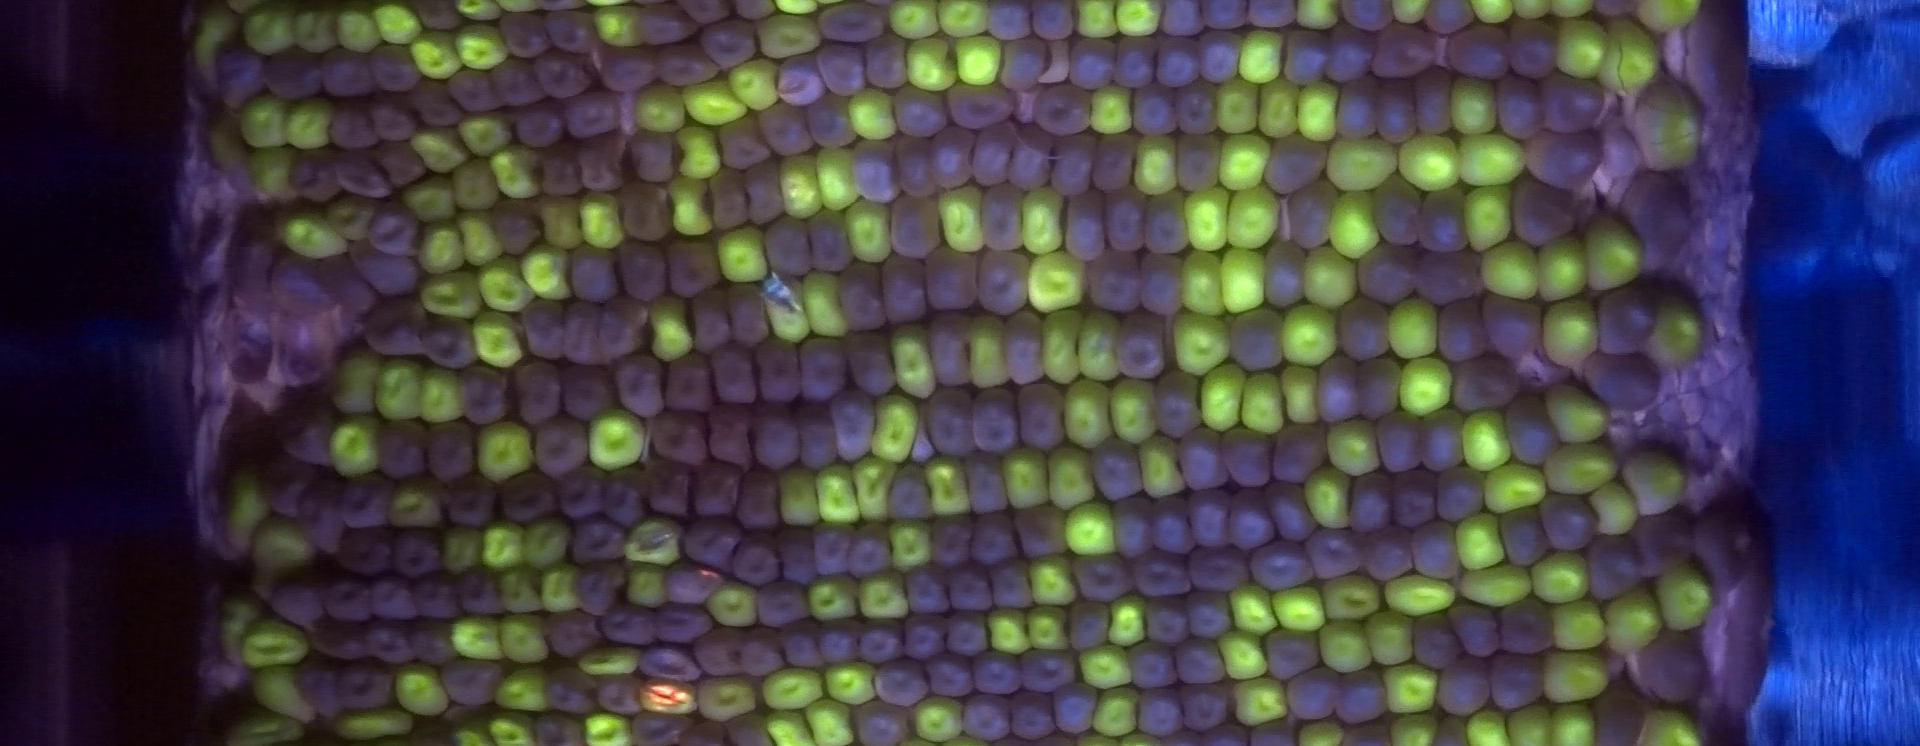fluorescent: (1625, 77, 1709, 175), (1598, 15, 1662, 100), (1578, 218, 1649, 290), (1599, 586, 1667, 659), (252, 663, 324, 726), (585, 408, 651, 477), (1322, 136, 1403, 191), (1221, 187, 1287, 252), (1479, 235, 1543, 303), (1629, 446, 1690, 514), (839, 198, 902, 263), (1453, 131, 1528, 186), (884, 325, 939, 399), (1022, 247, 1091, 307), (1063, 379, 1120, 450), (1653, 292, 1708, 365), (1166, 315, 1233, 375), (1548, 435, 1618, 492), (1400, 132, 1464, 194), (184, 15, 236, 89), (216, 473, 268, 548), (478, 419, 539, 483), (936, 185, 989, 257), (250, 521, 323, 573), (1543, 643, 1611, 699), (467, 312, 531, 371), (372, 358, 431, 423), (1545, 382, 1611, 440), (710, 229, 778, 285), (1458, 408, 1515, 475), (1452, 563, 1538, 608), (847, 456, 901, 526), (474, 257, 544, 311), (1212, 134, 1273, 195), (1534, 236, 1594, 299), (1656, 566, 1716, 628), (662, 175, 718, 243), (1330, 191, 1384, 260), (284, 96, 345, 156), (1198, 363, 1247, 437), (1177, 189, 1233, 254), (1476, 458, 1547, 510), (1176, 247, 1231, 314), (1229, 673, 1296, 728), (242, 626, 320, 673), (1457, 184, 1512, 249), (1038, 307, 1086, 382), (1547, 599, 1611, 653), (800, 272, 852, 338), (962, 311, 1009, 386), (419, 269, 491, 317), (1398, 356, 1455, 418), (643, 294, 692, 364), (1236, 374, 1288, 439), (1378, 664, 1442, 717), (1302, 247, 1359, 306), (1073, 314, 1123, 381), (216, 597, 264, 665), (1136, 434, 1187, 500), (1060, 503, 1120, 559), (1327, 416, 1381, 478), (239, 97, 298, 152), (396, 176, 462, 225), (1286, 305, 1340, 365), (853, 570, 913, 624), (1318, 621, 1378, 675), (1543, 301, 1596, 363), (922, 458, 973, 521), (1363, 605, 1414, 668), (1251, 81, 1302, 145), (1103, 375, 1153, 439), (951, 33, 1007, 91), (1449, 517, 1504, 575), (393, 668, 451, 723), (1022, 187, 1069, 255), (1292, 80, 1341, 143), (902, 36, 958, 92), (1232, 29, 1288, 85), (452, 211, 504, 269), (841, 92, 907, 138), (762, 673, 831, 717), (1218, 250, 1267, 312), (1000, 445, 1049, 507), (1307, 467, 1354, 530), (797, 698, 861, 746), (1386, 300, 1440, 356), (1555, 20, 1608, 77), (492, 560, 544, 619), (1048, 445, 1095, 510), (778, 465, 827, 527), (1269, 586, 1330, 635), (874, 397, 920, 463), (814, 459, 860, 526), (629, 86, 692, 134), (776, 153, 820, 220), (1224, 579, 1280, 633), (1087, 684, 1142, 737), (522, 247, 576, 303), (1447, 75, 1498, 134), (1385, 573, 1460, 612), (408, 130, 474, 174), (1024, 554, 1078, 608), (1133, 137, 1184, 194), (493, 668, 552, 717), (811, 148, 857, 209), (1275, 364, 1321, 425), (333, 6, 386, 60), (1638, 707, 1711, 746), (1319, 573, 1381, 619), (284, 211, 347, 256), (451, 23, 508, 72), (1106, 590, 1151, 652), (497, 615, 550, 668), (624, 517, 680, 567), (328, 418, 377, 474), (696, 680, 758, 724), (238, 10, 296, 56), (680, 86, 747, 126), (981, 604, 1031, 658), (1534, 552, 1589, 601), (328, 707, 416, 737), (729, 60, 780, 111), (403, 34, 463, 78), (486, 145, 538, 196), (804, 577, 857, 627), (672, 127, 726, 176), (1212, 78, 1260, 134), (389, 478, 444, 526), (623, 555, 669, 612), (1025, 601, 1073, 655), (1591, 483, 1637, 538), (907, 697, 964, 742), (707, 582, 760, 628), (1078, 643, 1131, 690), (576, 196, 622, 250), (414, 367, 459, 423), (336, 353, 376, 414), (433, 526, 484, 575), (373, 6, 427, 51), (887, 1, 948, 40), (524, 518, 573, 567), (244, 148, 291, 197), (420, 227, 469, 274), (1090, 87, 1136, 137), (1220, 628, 1266, 677), (454, 113, 514, 151), (1071, 1, 1127, 42), (481, 522, 527, 571), (823, 664, 879, 703), (1547, 703, 1598, 746), (1641, 1, 1700, 38), (888, 521, 931, 570), (1108, 1, 1167, 37), (1505, 706, 1556, 746), (224, 719, 301, 746), (452, 617, 504, 657), (206, 118, 246, 168), (578, 647, 647, 676), (932, 1, 992, 34), (484, 714, 544, 746), (540, 563, 578, 612), (293, 11, 336, 54), (594, 7, 640, 47), (1390, 712, 1442, 746), (585, 712, 636, 746), (753, 717, 809, 746), (1291, 1, 1344, 31), (1294, 717, 1347, 746), (1469, 1, 1520, 31), (1382, 1, 1431, 31), (1467, 709, 1505, 746), (1509, 1, 1558, 24), (454, 718, 489, 746), (1553, 1, 1592, 23), (458, 1, 504, 20), (779, 1, 819, 15)
nonfluorescent: (1629, 171, 1693, 274), (1620, 635, 1713, 706), (1682, 16, 1749, 108), (1480, 287, 1545, 365), (1262, 415, 1333, 486), (291, 478, 353, 559), (1523, 130, 1607, 189), (1578, 534, 1647, 605), (258, 443, 323, 516), (318, 250, 383, 321), (1690, 511, 1755, 582), (1720, 636, 1772, 724), (1283, 173, 1342, 247), (1378, 169, 1430, 252), (1356, 243, 1420, 310), (917, 386, 980, 456), (213, 37, 276, 107), (1588, 352, 1662, 410), (530, 416, 596, 481), (976, 181, 1032, 257), (1509, 180, 1578, 241), (1596, 287, 1656, 358), (1063, 548, 1135, 606), (1416, 187, 1473, 261), (834, 265, 894, 334), (1267, 137, 1332, 201), (350, 233, 415, 296), (1540, 73, 1608, 134), (844, 330, 899, 402), (1250, 539, 1322, 594), (973, 247, 1033, 314), (918, 246, 978, 312), (1224, 312, 1291, 372), (1431, 300, 1490, 367), (1180, 543, 1254, 597), (873, 252, 929, 322), (966, 385, 1022, 454), (361, 300, 424, 363), (757, 214, 818, 278), (1258, 484, 1321, 545), (1631, 512, 1696, 572), (1495, 510, 1555, 575), (1423, 245, 1489, 304), (726, 461, 781, 530), (1371, 20, 1433, 82), (612, 243, 675, 304), (1487, 652, 1549, 713), (1220, 424, 1280, 488), (276, 402, 340, 461), (530, 48, 598, 104), (885, 191, 940, 260), (1118, 314, 1173, 382), (1124, 552, 1198, 604), (1502, 16, 1562, 78), (613, 180, 673, 243), (1502, 398, 1562, 461), (1085, 255, 1144, 318), (647, 408, 710, 467), (1452, 356, 1520, 412), (827, 394, 882, 462), (267, 576, 336, 630), (1258, 238, 1308, 311), (924, 315, 975, 388), (1539, 491, 1600, 551), (560, 356, 618, 419), (405, 75, 469, 132), (804, 203, 855, 276), (1718, 582, 1787, 635), (1335, 296, 1390, 361), (235, 232, 279, 312), (1140, 187, 1191, 256), (509, 364, 569, 423), (1363, 529, 1420, 590), (1179, 490, 1236, 552), (793, 341, 849, 404), (958, 451, 1013, 514), (1446, 24, 1511, 78), (1031, 87, 1097, 140), (1376, 413, 1429, 479), (999, 312, 1048, 383), (1136, 254, 1193, 315), (1298, 524, 1360, 579), (749, 408, 803, 472), (703, 404, 757, 468), (1150, 370, 1202, 435), (720, 283, 771, 349), (267, 261, 333, 312), (261, 51, 327, 103), (662, 240, 721, 298), (962, 512, 1021, 570), (1229, 488, 1280, 555), (1284, 663, 1344, 719), (793, 403, 842, 472), (705, 342, 758, 405), (1409, 518, 1462, 582), (377, 418, 430, 481), (1258, 626, 1322, 677), (421, 423, 479, 480), (713, 114, 771, 170), (1046, 679, 1104, 735), (576, 140, 634, 196), (1330, 668, 1390, 723), (1371, 73, 1418, 145), (611, 355, 664, 418), (1386, 469, 1439, 532), (502, 473, 564, 526), (337, 526, 400, 577), (1103, 187, 1150, 257), (686, 461, 743, 517), (284, 147, 340, 205), (816, 40, 871, 99), (1086, 441, 1141, 500), (1431, 657, 1487, 715), (457, 363, 509, 424), (600, 298, 651, 360), (642, 453, 693, 516), (1014, 383, 1065, 446), (752, 336, 802, 399), (326, 149, 389, 200), (632, 6, 700, 53), (1331, 76, 1378, 145), (1016, 643, 1081, 692), (1449, 601, 1506, 657), (1496, 595, 1551, 653), (862, 37, 916, 96), (384, 526, 443, 579), (487, 58, 546, 111), (1065, 32, 1118, 92), (1147, 499, 1199, 560), (814, 2, 885, 47), (891, 135, 940, 198), (929, 124, 978, 187), (1149, 37, 1204, 93), (485, 200, 540, 256), (328, 100, 384, 156), (539, 149, 596, 203), (940, 563, 999, 616), (632, 131, 683, 191), (696, 17, 762, 64), (1180, 430, 1229, 492), (983, 563, 1046, 612), (1062, 192, 1107, 260), (557, 96, 628, 138), (1171, 78, 1226, 134), (1280, 29, 1333, 86), (560, 467, 613, 523), (1168, 636, 1226, 688), (840, 528, 899, 579), (1142, 590, 1194, 649), (1349, 472, 1396, 537), (802, 96, 862, 146), (1091, 135, 1141, 195), (1106, 499, 1160, 554), (1412, 612, 1466, 668), (1008, 691, 1063, 745), (651, 44, 722, 86), (898, 565, 956, 615), (1138, 684, 1188, 742), (1412, 69, 1457, 134), (1491, 76, 1540, 136), (943, 85, 1011, 127), (440, 661, 501, 709), (558, 303, 605, 365), (501, 7, 555, 61), (893, 86, 948, 138), (375, 137, 430, 190), (443, 479, 500, 530), (1014, 507, 1071, 557), (549, 7, 606, 58), (598, 465, 647, 524), (955, 691, 1014, 740), (520, 296, 564, 361), (1354, 359, 1401, 420), (691, 626, 744, 679), (420, 326, 482, 371), (771, 54, 828, 104), (924, 650, 981, 701), (362, 620, 420, 669), (362, 96, 420, 145), (508, 103, 567, 151), (1176, 134, 1222, 194), (682, 522, 742, 568), (849, 699, 909, 746), (571, 243, 617, 303), (658, 563, 719, 609), (343, 474, 396, 527), (757, 105, 811, 157), (304, 621, 372, 661), (997, 38, 1047, 93), (662, 355, 713, 410), (1123, 642, 1178, 692), (1108, 31, 1156, 88), (971, 130, 1019, 187), (1420, 414, 1468, 472), (1314, 356, 1353, 426), (928, 514, 975, 573), (847, 615, 906, 661), (873, 661, 932, 708), (746, 162, 789, 225), (1051, 137, 1093, 201), (689, 287, 732, 350), (980, 1, 1040, 47), (407, 570, 460, 620), (851, 141, 895, 202), (1185, 590, 1240, 639), (972, 650, 1027, 699), (756, 582, 812, 630), (593, 670, 650, 717), (336, 660, 394, 706), (645, 608, 715, 646), (1438, 467, 1489, 518), (774, 527, 818, 587), (451, 567, 502, 619), (321, 51, 375, 100), (809, 519, 857, 575), (643, 644, 704, 687), (291, 661, 342, 713), (1194, 32, 1243, 85), (369, 48, 422, 96), (1589, 699, 1644, 746), (571, 518, 628, 562), (1008, 131, 1051, 189), (444, 72, 502, 115), (1182, 684, 1231, 734), (408, 621, 459, 669), (1129, 85, 1176, 137), (546, 615, 605, 657), (320, 577, 378, 619), (891, 468, 936, 523), (942, 611, 991, 660), (1065, 601, 1114, 650), (576, 566, 623, 616), (894, 619, 951, 660), (546, 669, 599, 714), (729, 541, 782, 586), (773, 624, 820, 673), (369, 571, 413, 624), (1326, 32, 1371, 82), (735, 635, 782, 681), (707, 175, 751, 225), (375, 207, 418, 258), (602, 608, 658, 647), (1340, 1, 1402, 36), (631, 712, 693, 746), (600, 50, 656, 88), (1157, 1, 1211, 40), (812, 624, 864, 663), (598, 673, 644, 717), (1422, 1, 1480, 36), (1029, 1, 1079, 40), (1198, 1, 1254, 36), (1239, 1, 1302, 31), (411, 1, 474, 27), (671, 1, 740, 24), (721, 715, 773, 746), (538, 713, 583, 746), (1251, 718, 1300, 746), (1337, 724, 1393, 746), (1431, 717, 1473, 746), (684, 719, 721, 746), (1592, 1, 1636, 22)
